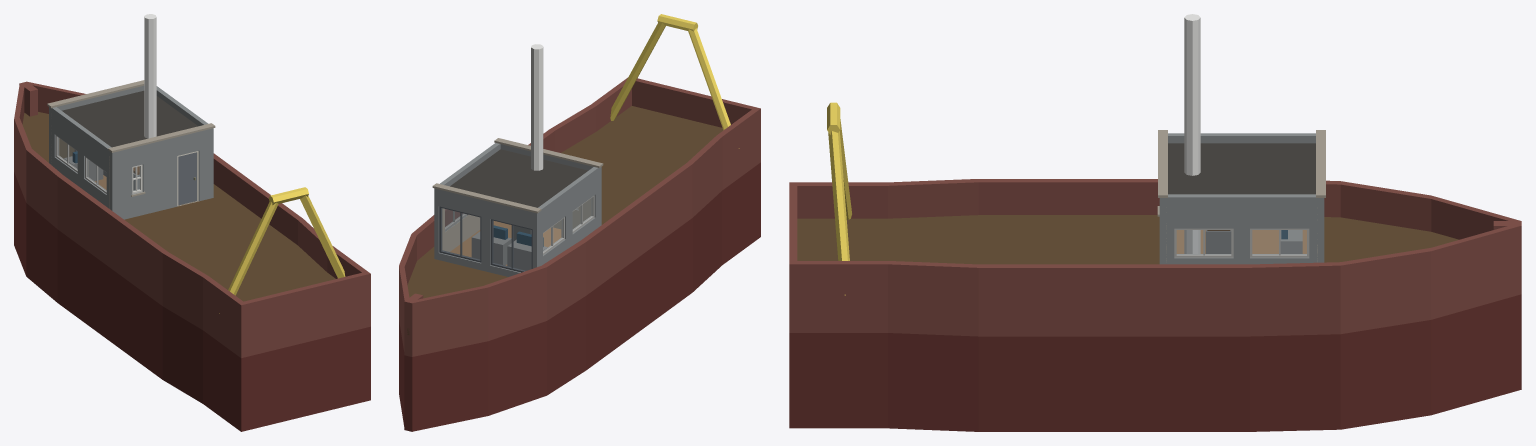
File: fishing_boat.glb
The picture shows the model from 3 angles, left to right: view 1: azimuth 30°, elevation 25°; view 2: azimuth 150°, elevation 25°; view 3: azimuth 270°, elevation 25°; orthographic projection. The views are drawn at different scales.
Parts seen in each view (by area): view 1: LOD0, LEAF0, FURN; view 2: LOD0, FURN; view 3: LOD0, FURN.
Part boxes in pixels (bbox=[...]): LOD0: bbox=[14, 14, 370, 431]; LEAF0: bbox=[178, 152, 196, 205]; FURN: bbox=[63, 151, 139, 190]; LOD0: bbox=[399, 14, 760, 431]; FURN: bbox=[471, 225, 547, 270]; LOD0: bbox=[789, 14, 1521, 431]; FURN: bbox=[1205, 230, 1302, 253].
Size of what is drawn, in the model's own units: 6.4 by 12.4 by 22.25.
